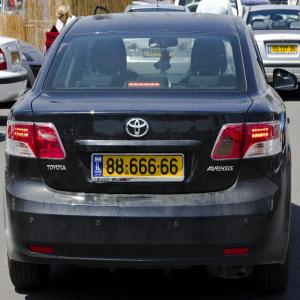Vehicle-registration-plate: (94, 156, 184, 177)
